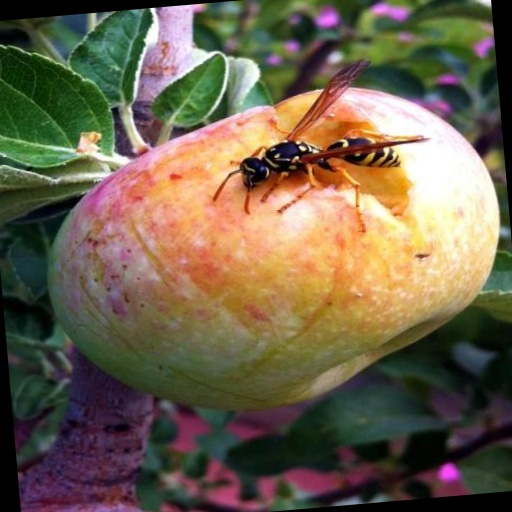fruit: (12, 157, 113, 497)
